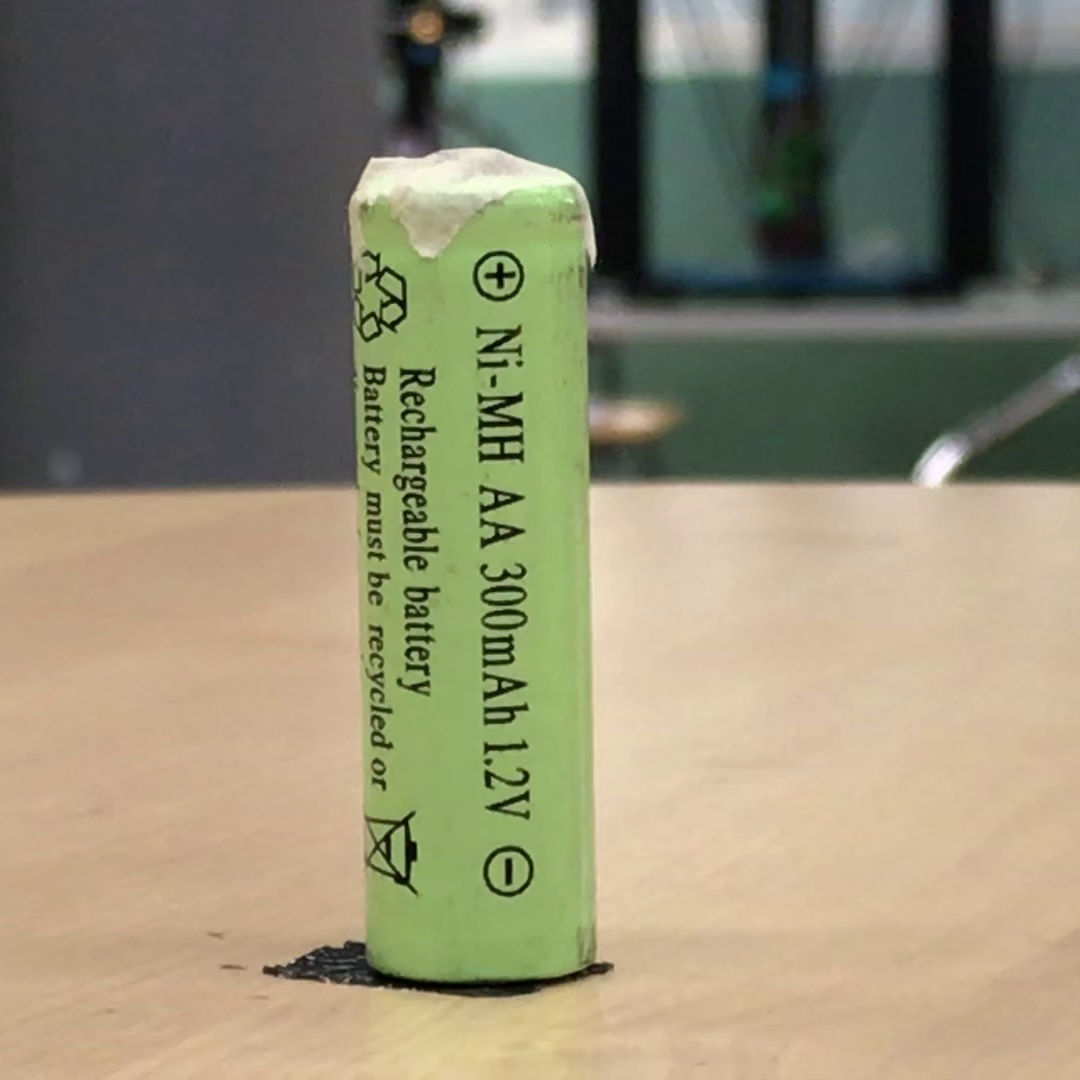keyword: (466, 315, 534, 471), (473, 711, 540, 830)
